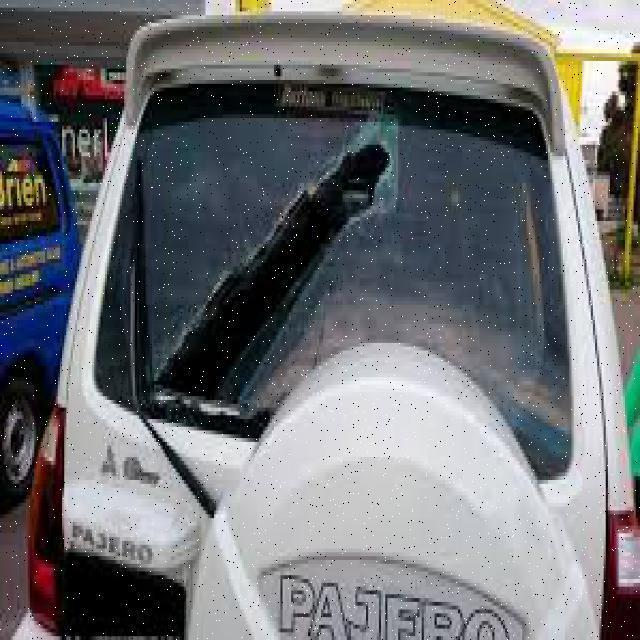Rear-windscreen-Damage: (109, 80, 574, 492)
